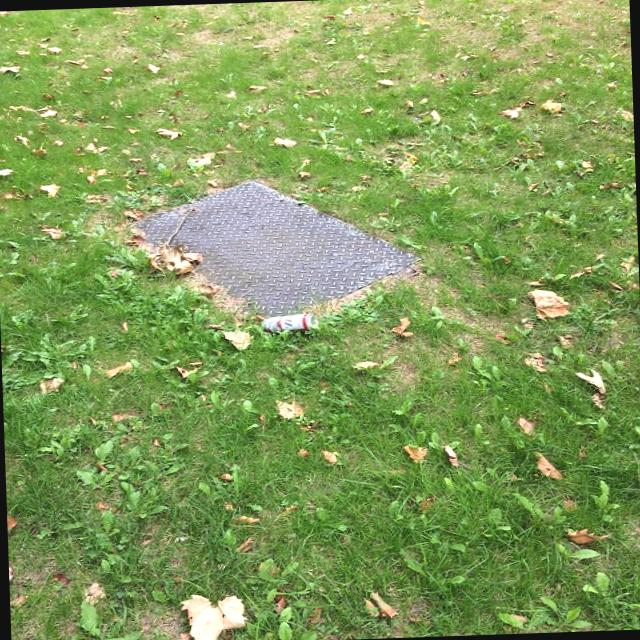Recycle: (258, 312, 318, 336)
